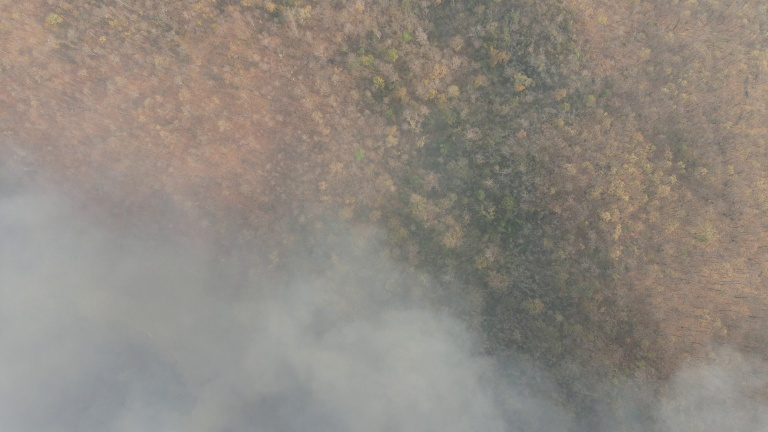fire: (140, 322, 192, 381)
smoke: (1, 220, 553, 432)
